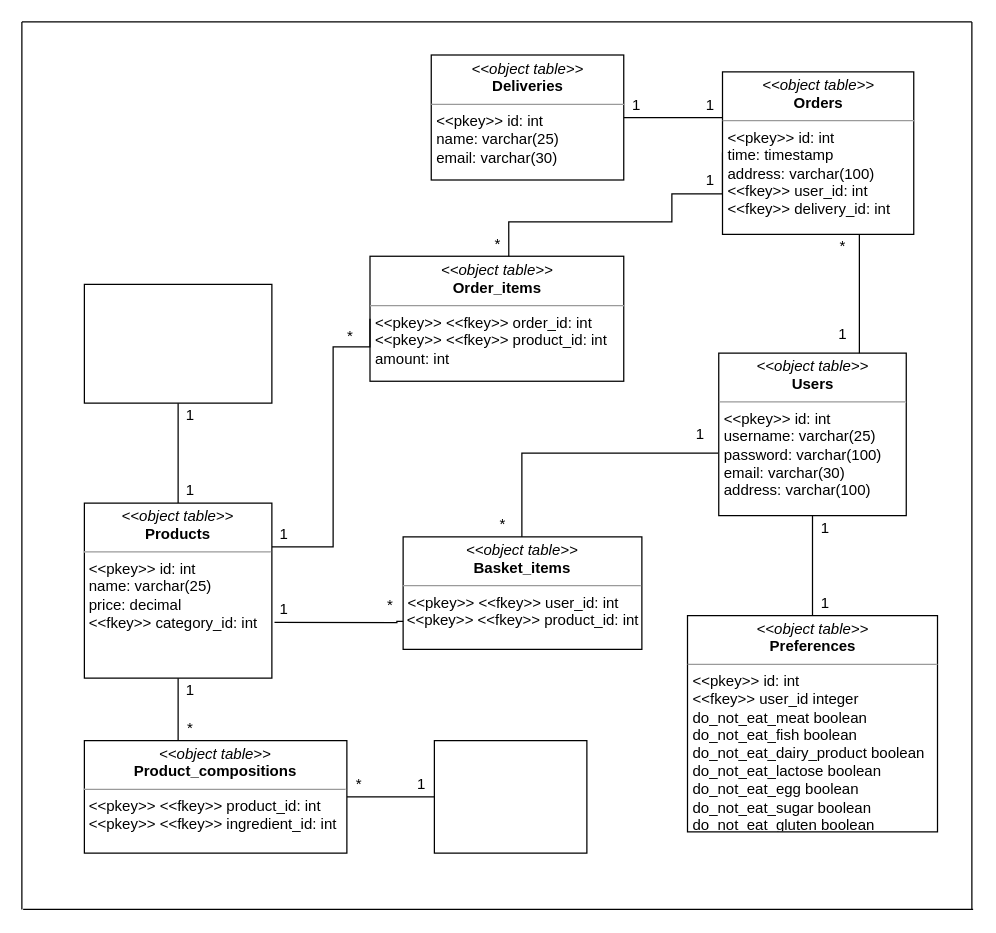
Some shapes in this 996 by 933 pixel diagram are drawn without their labels. The centre of each missing label's shape, as x and y in pixels:
<<object table>> Categories <<pkey>> id: int name: varchar(50): pixel 177 343
<<object table>> Ingredients <<pkey>> id: int name: varchar(25): pixel 510 796
